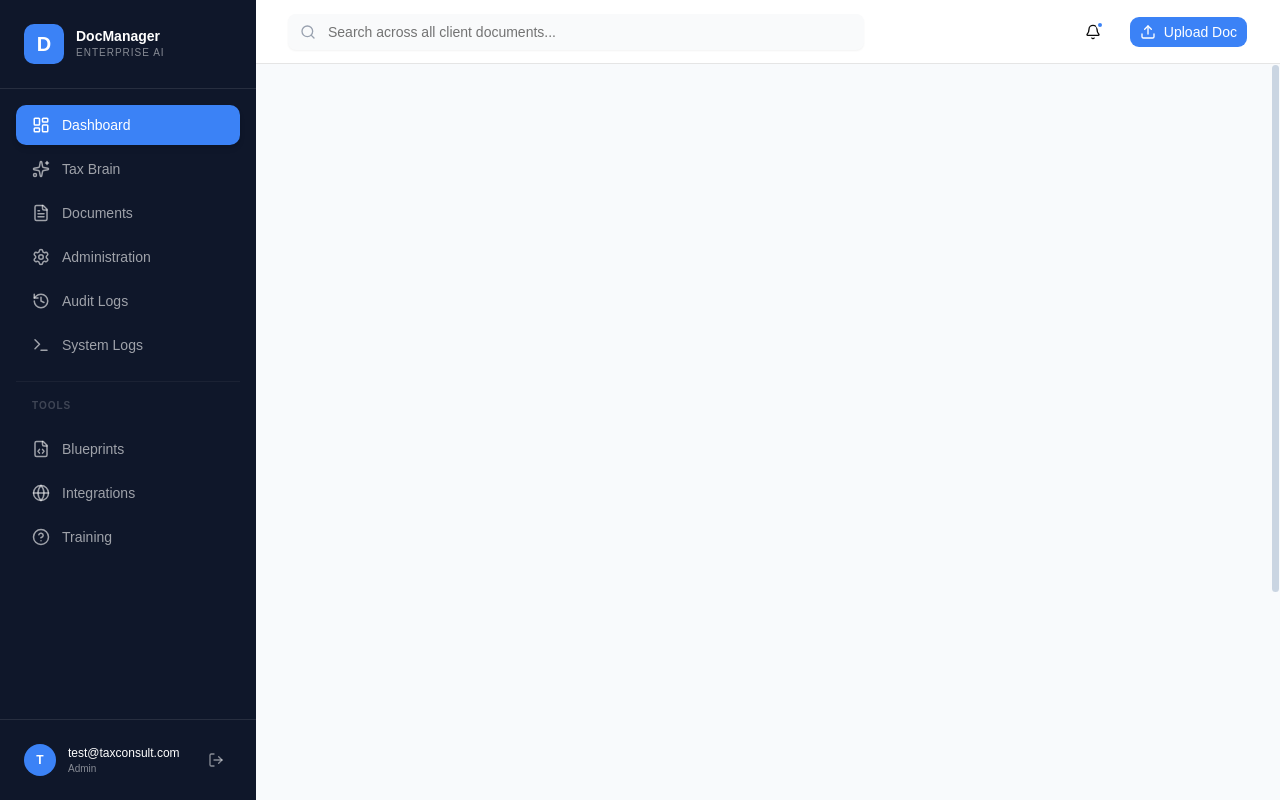
Test case: App Tab Navigation › renders Tax Documents tab
Click the button "Documents": click(128, 213) [16, 193, 240, 233]
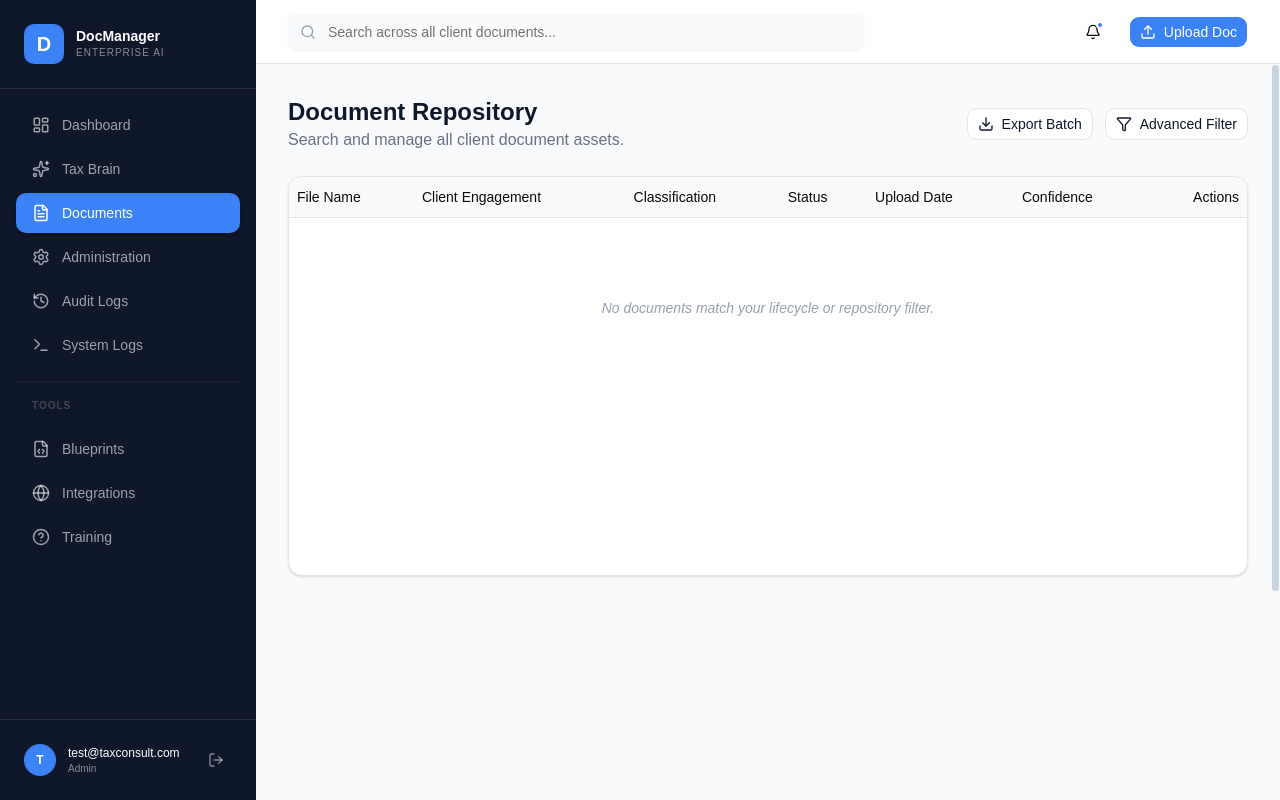
Now the heading "Document Repository" is shown, box [288, 98, 537, 125]
